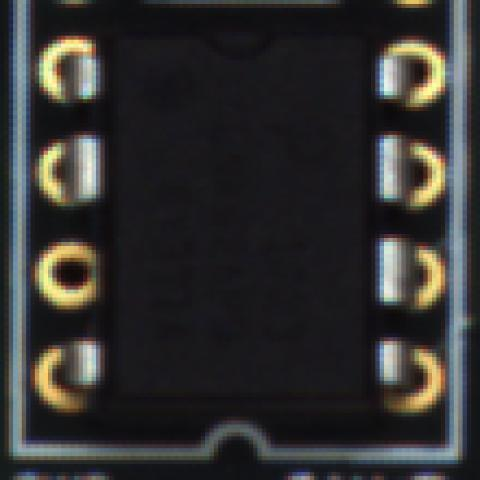IC: (29, 13, 456, 435)
